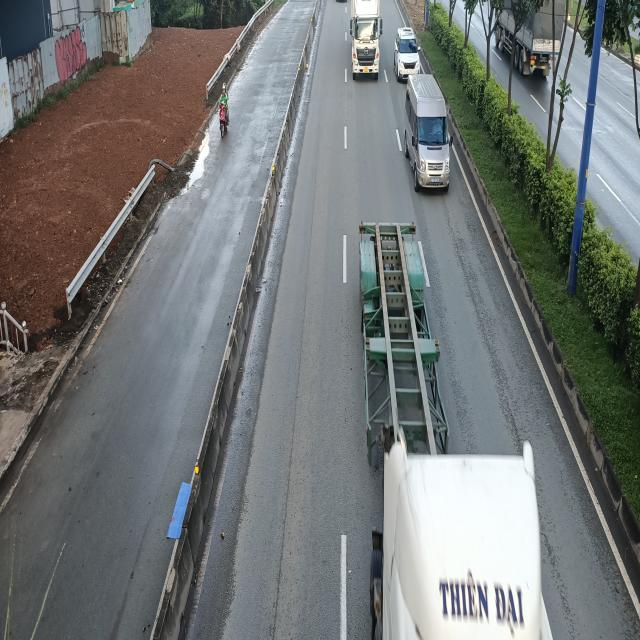car: (396, 28, 422, 83)
container: (357, 225, 559, 640)
truck: (349, 0, 382, 79)
van: (404, 75, 453, 195)
